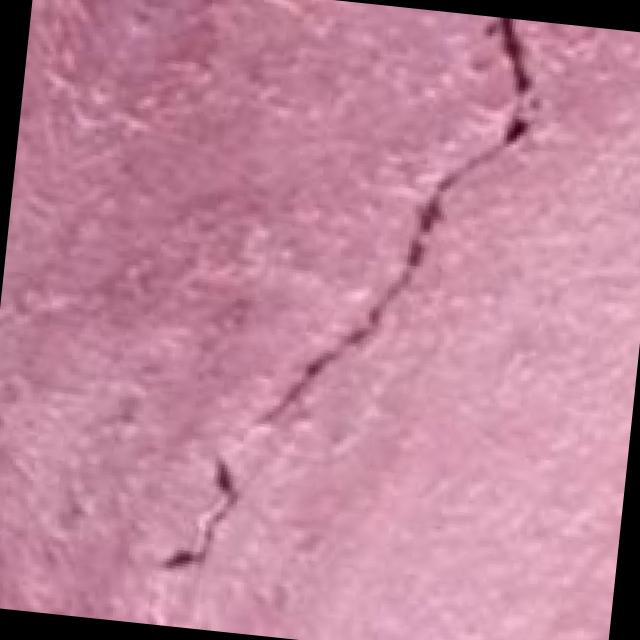crack: (155, 0, 553, 601)
